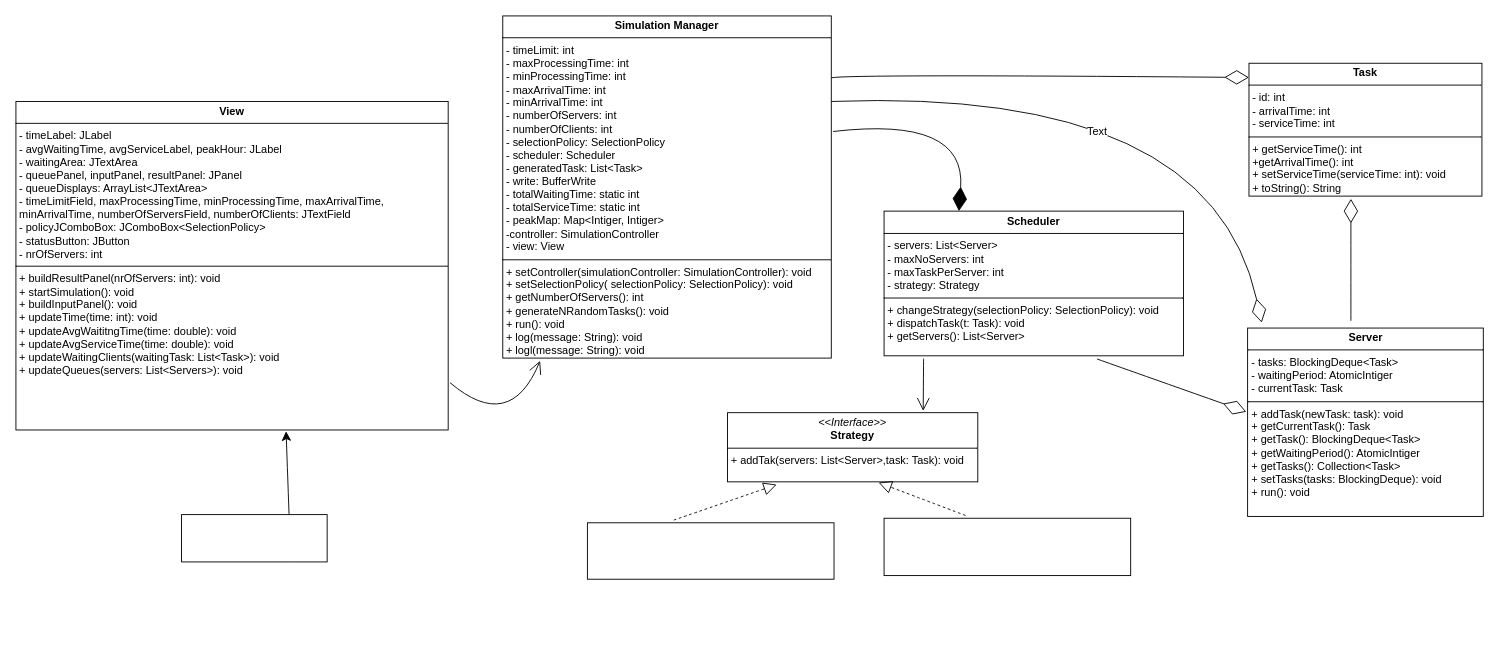
Image size: 1500x645. Some labels were removed from this diagram. The centre of each missing label's shape, as x and y in pixels:
Main + main(): void: the point at 254,538
Shortest Queue Strategy + addTak(servers: List<Server>,task: Task): void: the point at 1007,546
Time Strategy + addTak(servers: List<Server>,task: Task): void: the point at 710,550
